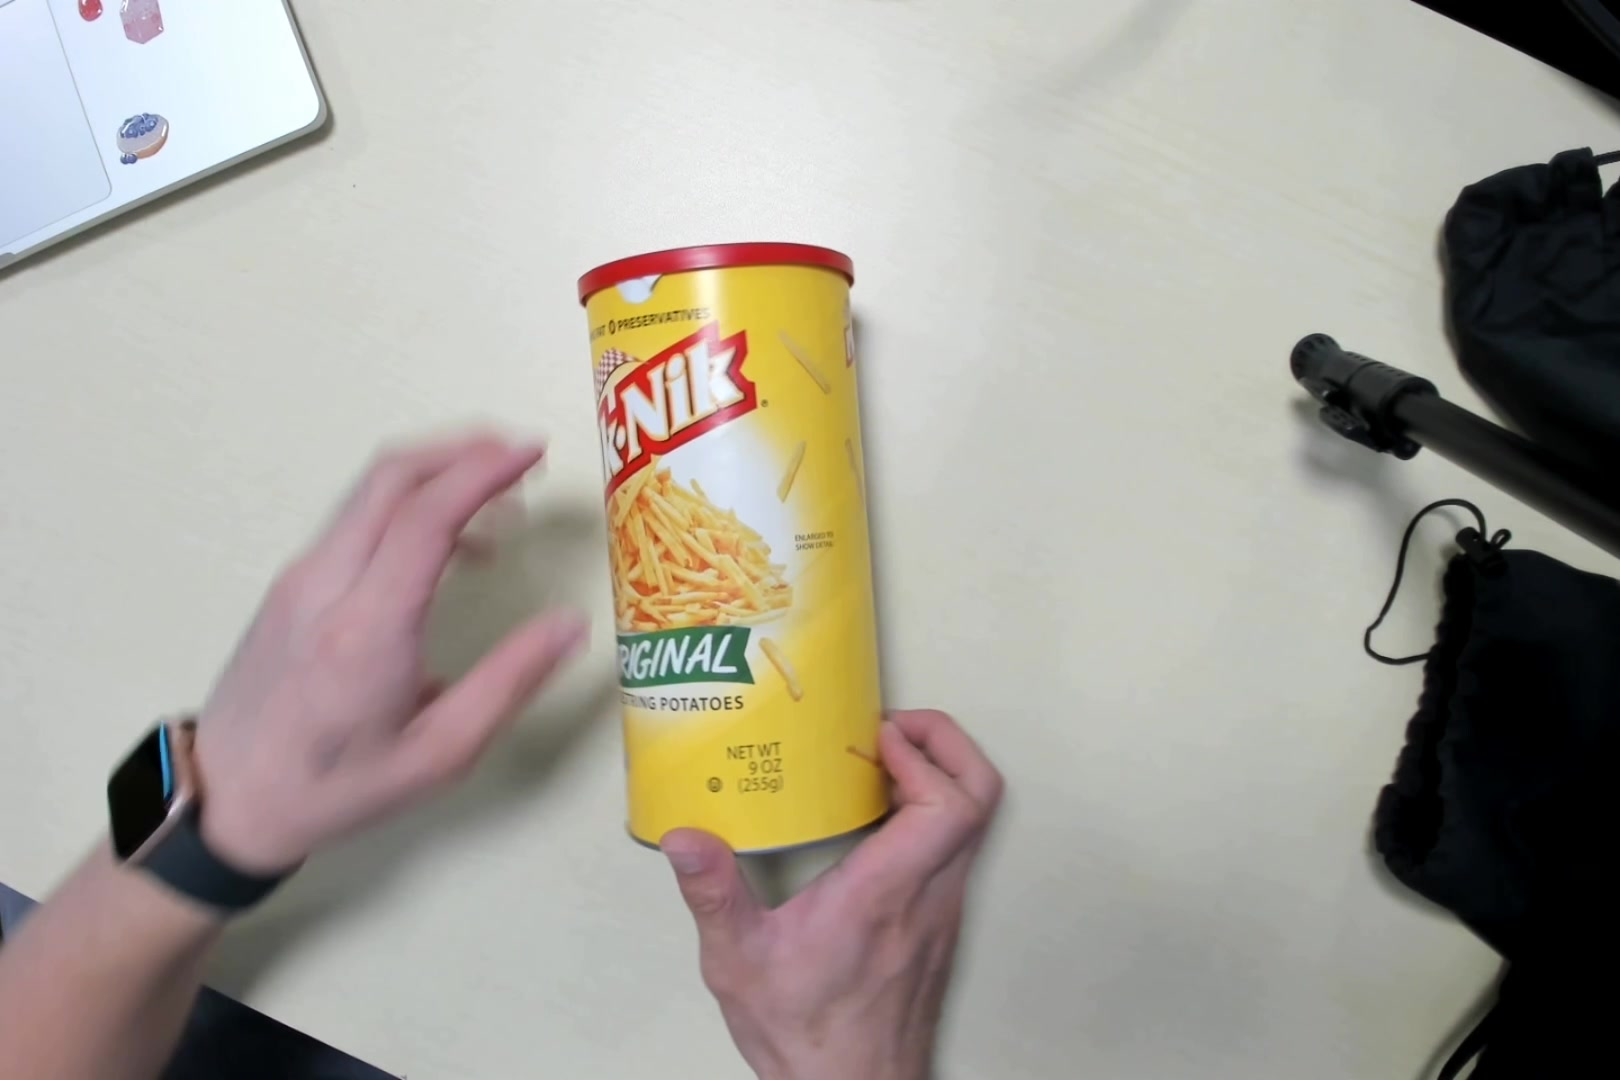PotatoChipsKeropok_200-299g_NonHalal_NonHealthy: (582, 237, 893, 859)
